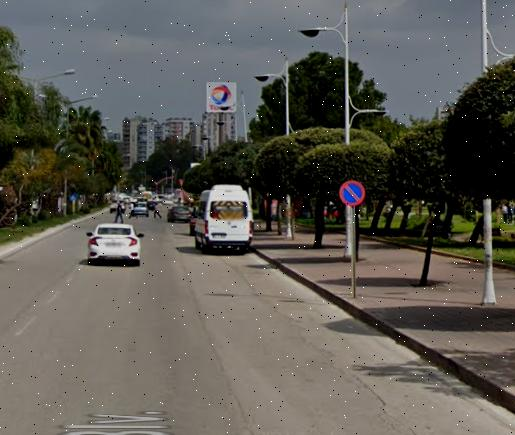nopark: (341, 179, 366, 208)
